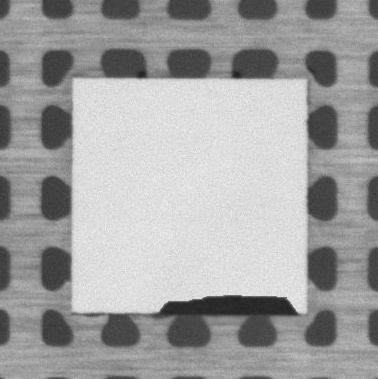DIE_BROKEN: (158, 293, 301, 317)
